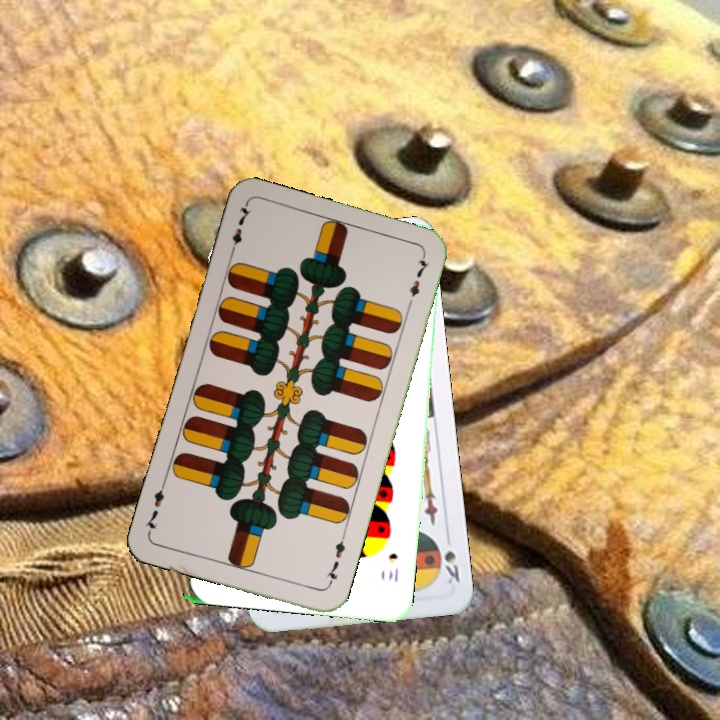E7: (226, 201, 253, 259), (323, 531, 348, 589)
S10: (384, 549, 401, 585)
SK: (440, 529, 462, 587)
